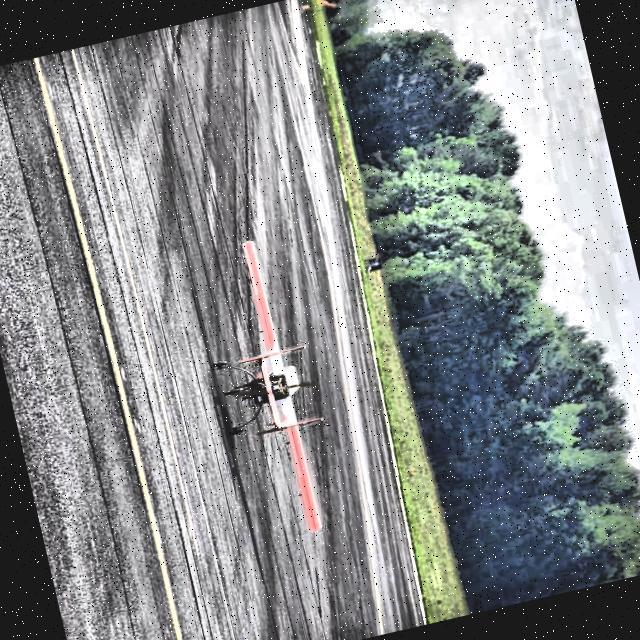iha: (167, 220, 346, 557)
